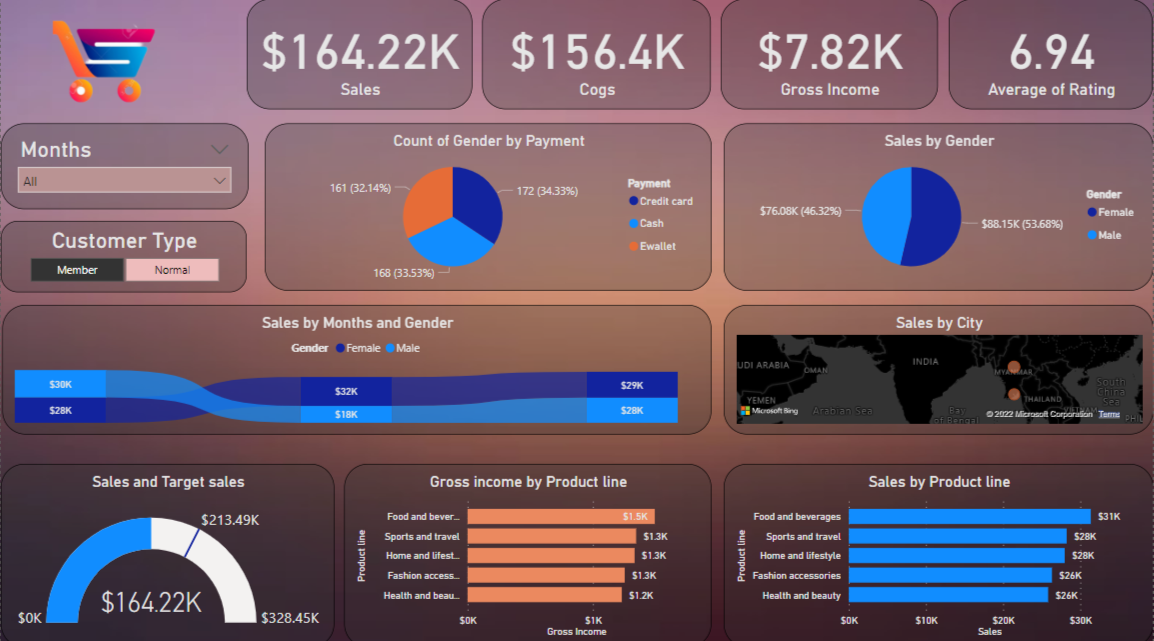

This screenshot's page, from the dashboard's own definition file:
{"tool":"powerbi","page":{"name":"Page 1","canvas":[1280,720],"ordinal":0},"visuals":[{"type":"slicer","fields":{"Values":["supermarket_sales - Sheet1.Month Name"]},"box":[0,139.1,275.1,95.5],"z":0},{"type":"slicer","title":"Customer Type","fields":{"Values":["supermarket_sales - Sheet1.Customer type"]},"box":[0,245.9,273.4,79.3],"z":1000},{"type":"pieChart","fields":{"Category":["supermarket_sales - Sheet1.Payment"],"Y":["CountNonNull(supermarket_sales - Sheet1.Gender)"]},"box":[292.9,139.1,496.7,186.1],"z":3000},{"type":"clusteredBarChart","title":"Gross income by Product line","fields":{"Category":["supermarket_sales - Sheet1.Product line"],"Y":["Sum(supermarket_sales - Sheet1.Gross Income)"]},"box":[381.8,516.1,407.7,203.9],"z":4000},{"type":"clusteredBarChart","fields":{"Category":["supermarket_sales - Sheet1.Product line"],"Y":["Sum(supermarket_sales - Sheet1.Sales)"]},"box":[802.5,516.1,477.3,203.9],"z":5000},{"type":"card","fields":{"Values":["Sum(supermarket_sales - Sheet1.Sales)"]},"box":[273.4,0,250.8,123],"z":6000},{"type":"card","fields":{"Values":["Sum(supermarket_sales - Sheet1.gross income)"]},"box":[799.3,0,241.1,123],"z":7000},{"type":"card","fields":{"Values":["Sum(supermarket_sales - Sheet1.cogs)"]},"box":[535.6,0,254,123],"z":8000},{"type":"map","fields":{"Category":["supermarket_sales - Sheet1.City"],"Size":["Sum(supermarket_sales - Sheet1.Sales)"]},"box":[802.5,339.8,477.3,144],"z":9000},{"type":"card","fields":{"Values":["Avg(supermarket_sales - Sheet1.Rating)"]},"box":[1053.3,0,226.5,123],"z":10000},{"type":"pieChart","fields":{"Y":["Sum(supermarket_sales - Sheet1.Sales)"],"Category":["supermarket_sales - Sheet1.Gender"]},"box":[802.5,139.1,477.3,186.1],"z":11000},{"type":"ribbonChart","fields":{"Category":["supermarket_sales - Sheet1.Months"],"Y":["Sum(supermarket_sales - Sheet1.Sales)"],"Series":["supermarket_sales - Sheet1.Gender"]},"box":[1.6,339.8,788,144],"z":11001},{"type":"gauge","fields":{"Y":["Sum(supermarket_sales - Sheet1.Sales)"],"TargetValue":["supermarket_sales - Sheet1.Target sales"]},"box":[0,516.1,370.5,203.9],"z":11002},{"type":"image","box":[0,0,271.8,166.7],"z":11003}]}

Visuals, with their boxes in screenshot pixels (x1, y1, x2, y2), scaled from the page's 1280x720 canvas onto the 1154x641 screenshot:
slicer - supermarket_sales - Sheet1.Month Name: region(0, 124, 248, 209)
"Customer Type" slicer: region(0, 219, 246, 290)
pieChart - supermarket_sales - Sheet1.Payment x CountNonNull(supermarket_sales - Sheet1.Gender): region(264, 124, 712, 290)
"Gross income by Product line" clusteredBarChart: region(344, 459, 712, 640)
clusteredBarChart - supermarket_sales - Sheet1.Product line x Sum(supermarket_sales - Sheet1.Sales): region(724, 459, 1153, 640)
card - Sum(supermarket_sales - Sheet1.Sales): region(246, 0, 473, 110)
card - Sum(supermarket_sales - Sheet1.gross income): region(721, 0, 938, 110)
card - Sum(supermarket_sales - Sheet1.cogs): region(483, 0, 712, 110)
map - supermarket_sales - Sheet1.City x Sum(supermarket_sales - Sheet1.Sales): region(724, 303, 1153, 431)
card - Avg(supermarket_sales - Sheet1.Rating): region(950, 0, 1153, 110)
pieChart - Sum(supermarket_sales - Sheet1.Sales) x supermarket_sales - Sheet1.Gender: region(724, 124, 1153, 290)
ribbonChart - supermarket_sales - Sheet1.Months x Sum(supermarket_sales - Sheet1.Sales): region(1, 303, 712, 431)
gauge - Sum(supermarket_sales - Sheet1.Sales) x supermarket_sales - Sheet1.Target sales: region(0, 459, 334, 640)
image: region(0, 0, 245, 148)
